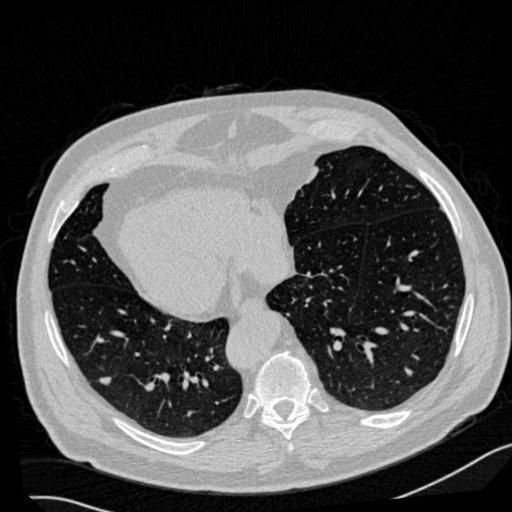nodule: (100, 373, 115, 388)
